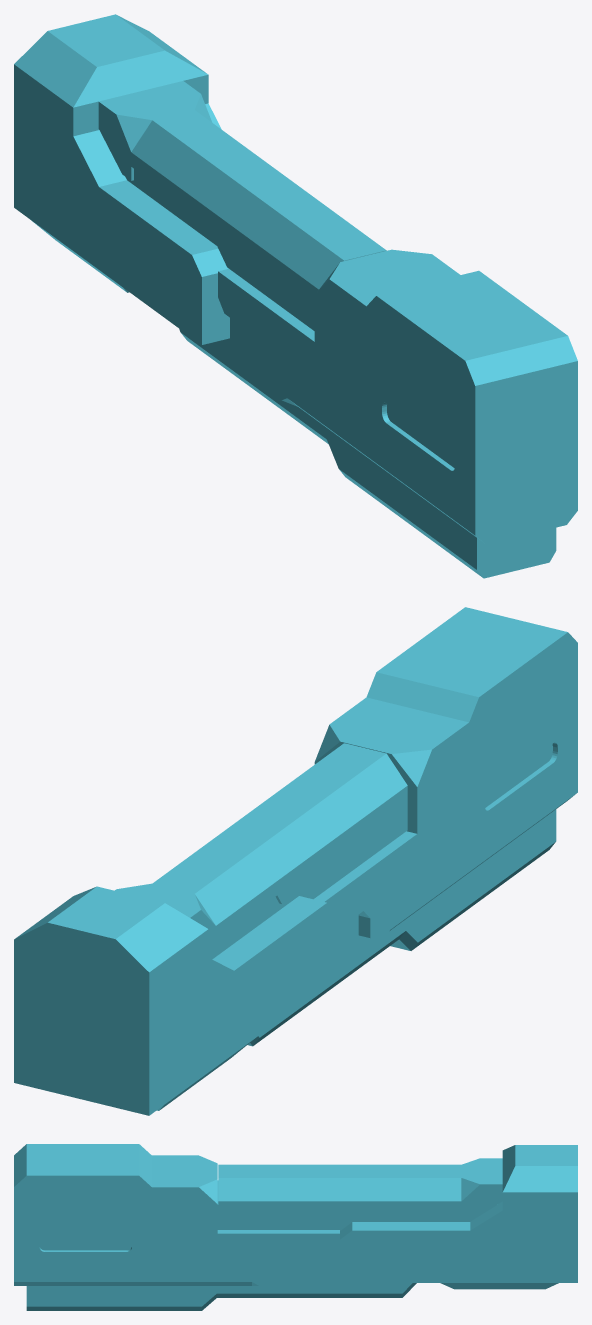
The model's file is part_body_04.fbx.
3 renders of one model, top to bottom at view 1: azimuth 30°, elevation 25°; view 2: azimuth 150°, elevation 25°; view 3: azimuth 270°, elevation 25°, orthographic. The views are drawn at different scales.
Visible parts, largest first — view 1: part_body_04; view 2: part_body_04; view 3: part_body_04.
Part boxes in pixels (x1,y1,x2,y2): part_body_04: (14, 14, 577, 578); part_body_04: (14, 607, 577, 1115); part_body_04: (14, 1144, 577, 1310).
Bounding box in the file's own units: 7.89 × 12.8 × 45.
